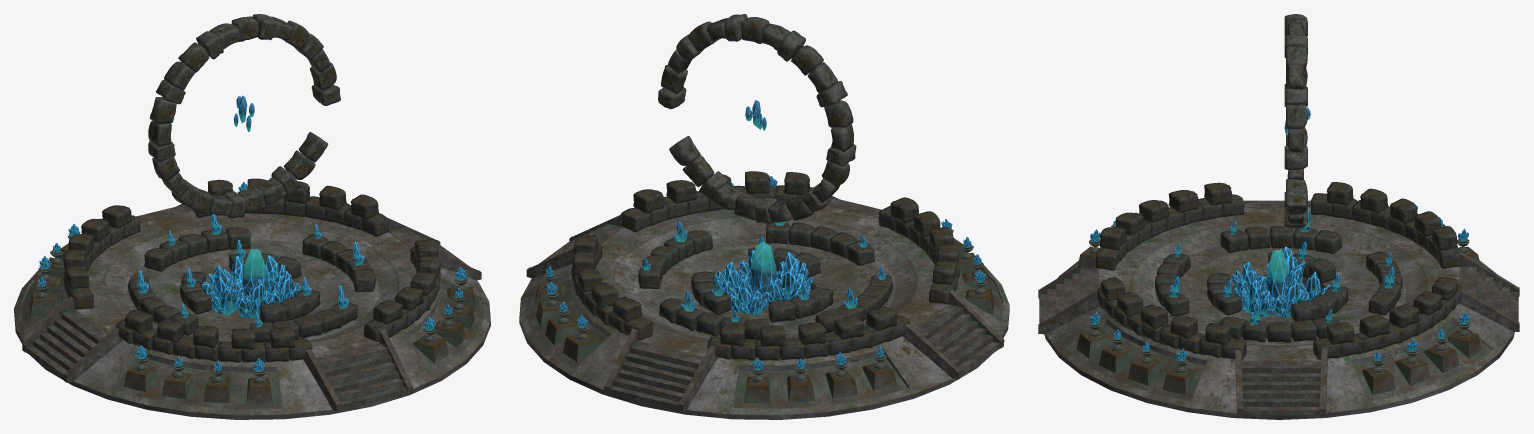
The model's file is Portal.fbx.
3 renders of one model, left to right at view 1: azimuth 30°, elevation 25°; view 2: azimuth 150°, elevation 25°; view 3: azimuth 270°, elevation 25°, orthographic. The views are drawn at different scales.
Parts seen in each view (by area): view 1: Base, Rocks, Portal, PilhaCristal3.013, Cristal3.002, PilhaCristal3.012, PilhaCristal3.011, PilhaCristal3.010; view 2: Base, Rocks, Portal, Cristal3.002, PilhaCristal3.009, PilhaCristal3.013, PilhaCristal3.010, PilhaCristal3.012; view 3: Base, Rocks, Portal, Cristal3.002, PilhaCristal3.011, PilhaCristal3.010, PilhaCristal3.012, PilhaCristal3.013.
Part boxes in pixels (x1,y1,x2,y2): Base: [14, 204, 490, 419]; Rocks: [63, 178, 440, 362]; Portal: [148, 14, 340, 218]; PilhaCristal3.013: [202, 266, 244, 315]; Cristal3.002: [242, 249, 267, 296]; PilhaCristal3.012: [237, 279, 274, 317]; PilhaCristal3.011: [271, 271, 300, 302]; PilhaCristal3.010: [265, 255, 292, 293]; Base: [519, 196, 1009, 419]; Rocks: [571, 171, 960, 360]; Portal: [658, 14, 856, 223]; Cristal3.002: [750, 242, 776, 306]; PilhaCristal3.009: [729, 279, 767, 314]; PilhaCristal3.013: [764, 266, 810, 305]; PilhaCristal3.010: [714, 262, 749, 295]; PilhaCristal3.012: [776, 252, 813, 287]; Base: [1038, 200, 1519, 419]; Rocks: [1095, 182, 1461, 360]; Portal: [1284, 14, 1307, 228]; Cristal3.002: [1266, 249, 1289, 310]; PilhaCristal3.011: [1239, 280, 1273, 316]; PilhaCristal3.010: [1272, 278, 1309, 317]; PilhaCristal3.012: [1231, 262, 1266, 295]; PilhaCristal3.013: [1267, 246, 1305, 285].
Size of the model in its own units: 16.06 by 10.85 by 16.06.
